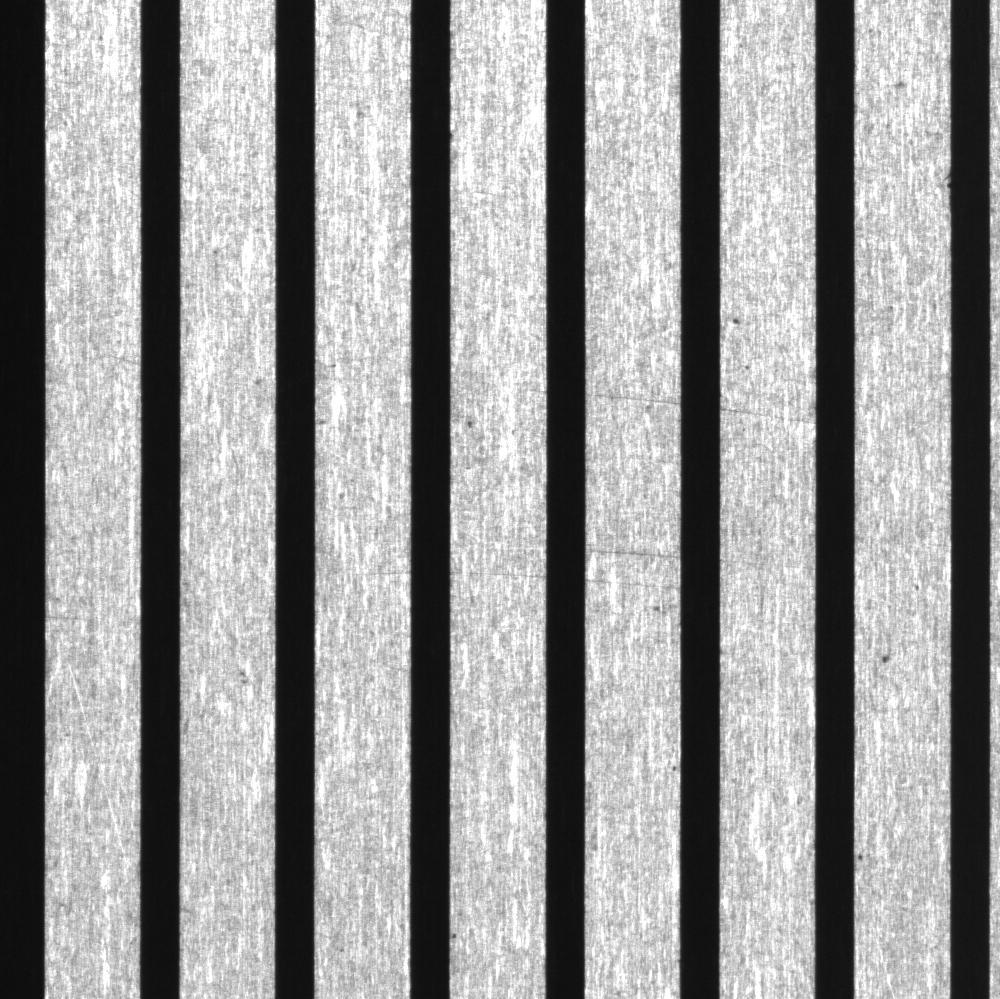Etching: (872, 637, 899, 679), (936, 162, 960, 203), (453, 411, 486, 436)
Pinhole: (727, 309, 748, 332), (856, 845, 874, 868)
Scar: (62, 656, 134, 890), (317, 427, 410, 525), (722, 398, 814, 431), (586, 568, 679, 596), (48, 600, 106, 640), (586, 386, 676, 410), (587, 538, 678, 561), (452, 563, 544, 585), (332, 561, 407, 586), (99, 339, 140, 380)
